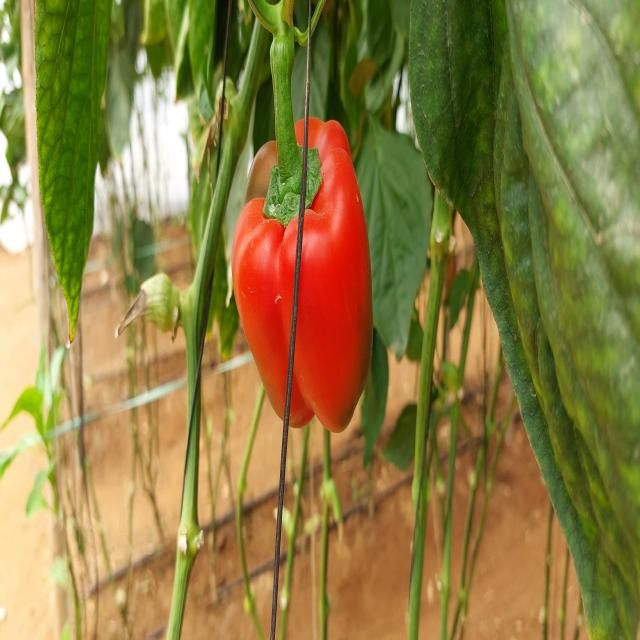Red-Ready-to-Harvest: (235, 142, 373, 452)
